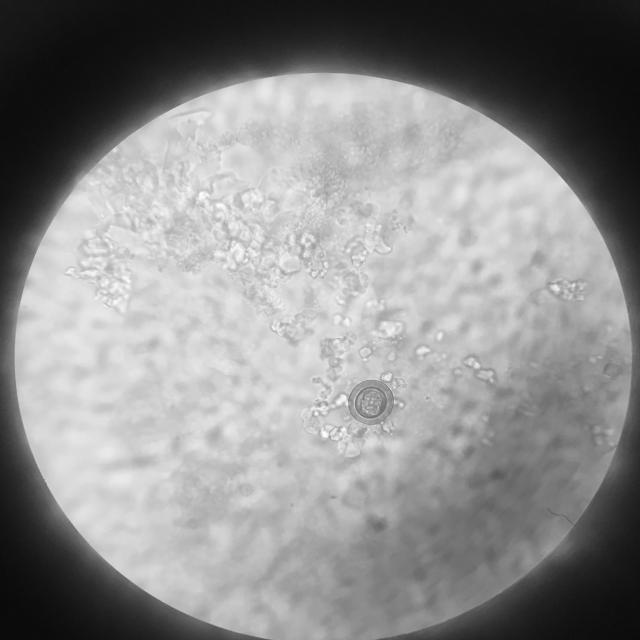Taenia Sp: (344, 380, 399, 427)
